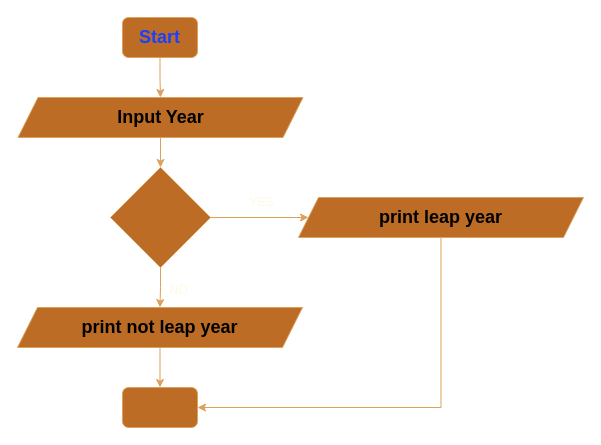
This 601x445 diagram has some shape labels left out. Each missing label, with the centre of its shape:
if yr%4==0: (x=160, y=217)
Stop: (x=160, y=407)
